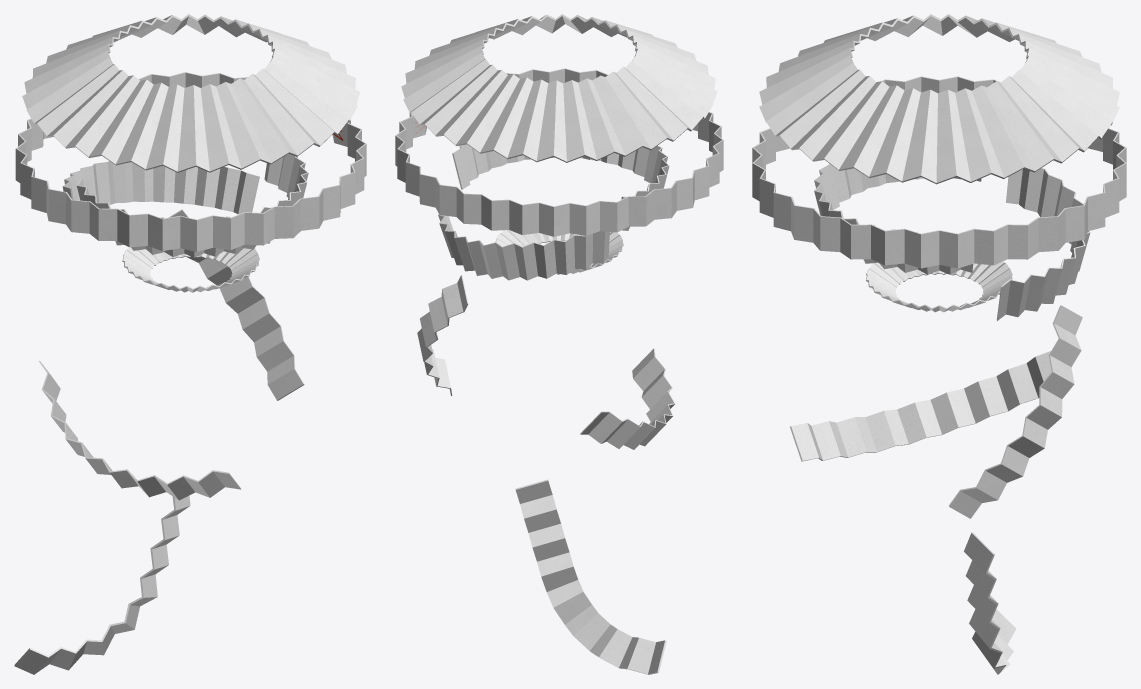
The model's file is Litterature.gltf.
3 views of the same model, side by side, from view 1: azimuth 30°, elevation 25°; view 2: azimuth 150°, elevation 25°; view 3: azimuth 270°, elevation 25° (orthographic). The views are drawn at different scales.
Visible parts, largest first — view 1: couronne1, Plane.003, couronne3.1, bras1, bras3, bras2, couronne3.2, couronne4; view 2: couronne1, Plane.003, bras3, couronne3.1, bras2, couronne3.2, bras1, couronne4; view 3: couronne1, Plane.003, bras2, bras1, couronne3.1, bras3, couronne3.2, couronne4.
Boxes of the visible parts, bbox=[...] form: couronne1: bbox=[22, 14, 359, 172]; Plane.003: bbox=[15, 72, 366, 251]; couronne3.1: bbox=[62, 161, 259, 214]; bras1: bbox=[169, 209, 304, 400]; bras3: bbox=[14, 496, 190, 674]; bras2: bbox=[39, 361, 241, 500]; couronne3.2: bbox=[76, 153, 308, 257]; couronne4: bbox=[122, 247, 259, 292]; couronne1: bbox=[401, 14, 717, 162]; Plane.003: bbox=[395, 68, 723, 236]; bras3: bbox=[515, 479, 666, 674]; couronne3.1: bbox=[438, 214, 609, 280]; bras2: bbox=[580, 348, 674, 449]; couronne3.2: bbox=[452, 144, 669, 230]; bras1: bbox=[417, 275, 468, 395]; couronne4: bbox=[496, 230, 623, 274]; couronne1: bbox=[759, 14, 1119, 184]; Plane.003: bbox=[752, 76, 1126, 268]; bras2: bbox=[790, 351, 1051, 461]; bras1: bbox=[949, 305, 1082, 518]; couronne3.1: bbox=[996, 168, 1090, 320]; bras3: bbox=[964, 532, 1016, 674]; couronne3.2: bbox=[814, 163, 981, 274]; couronne4: bbox=[866, 261, 1012, 312].
Size of the model in its own units: 14.5 by 28.38 by 14.5.
Materials: 2 (2 with a texture image).
